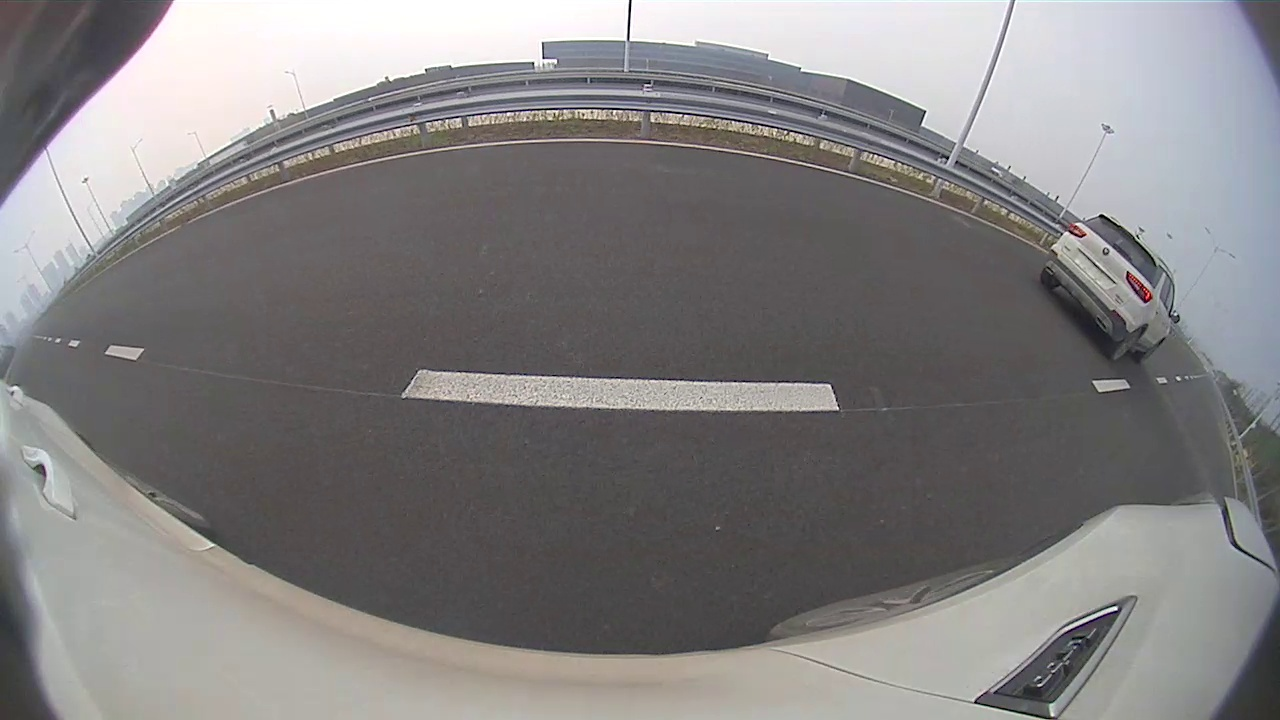car: (687, 145, 769, 197)
front: (687, 173, 695, 191)
rear: (707, 173, 716, 195)
